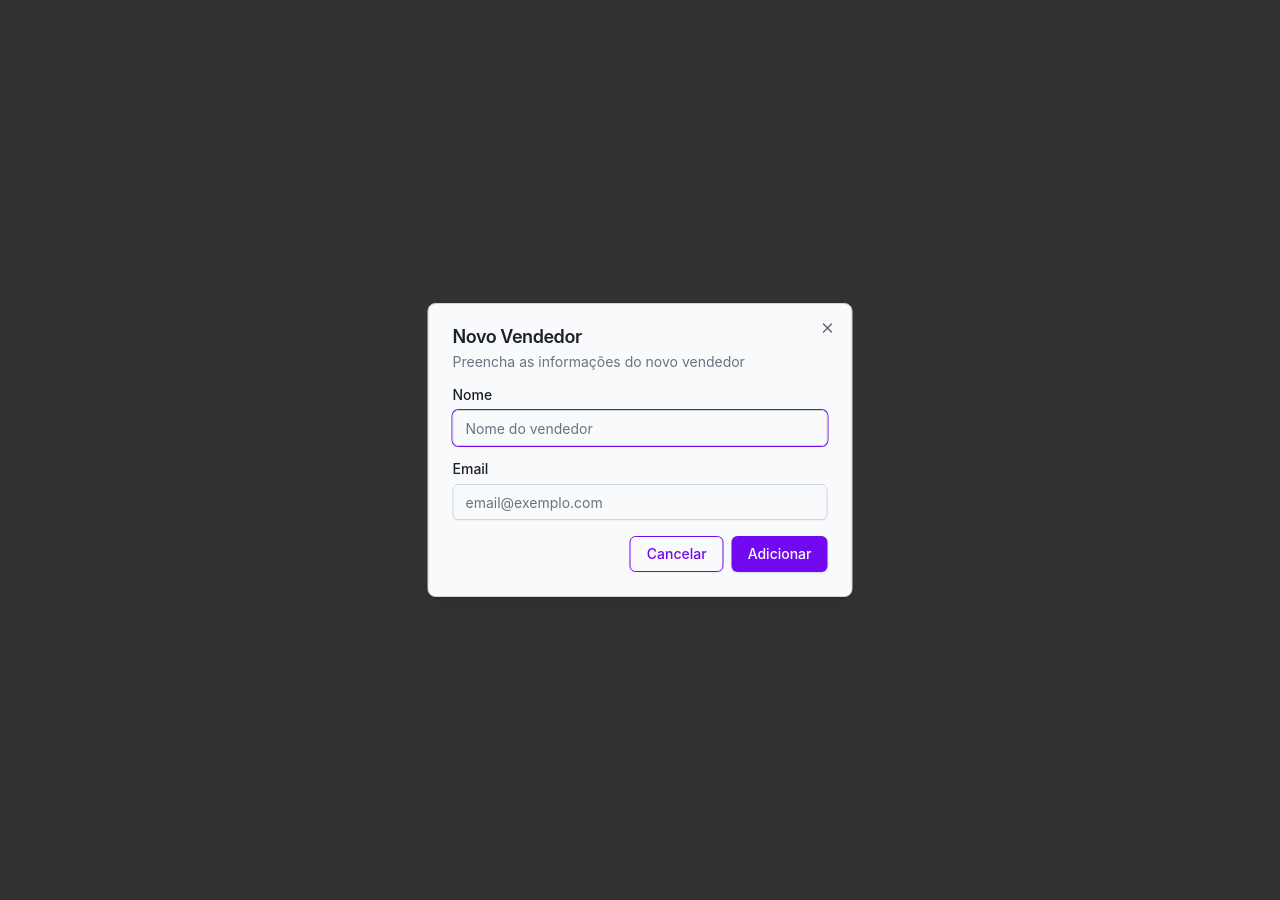
it: FormularioVendedor › validation › deve exibir erro quando email está vazio
Preencher apenas nome
Step 1. Type "Teste" into the field labelled "Nome" → (640, 428), box [452, 410, 828, 446]
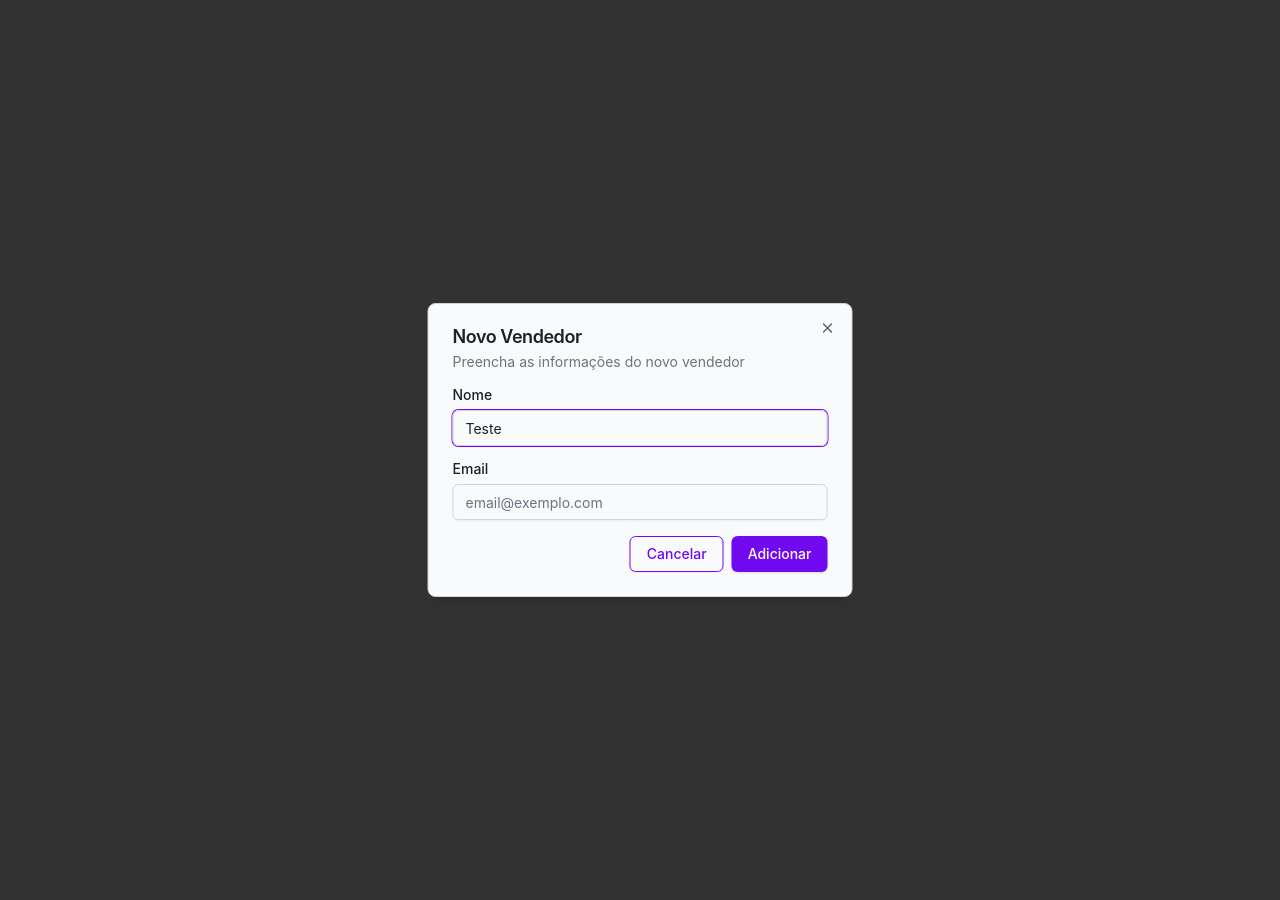
Step 2. Click the button "Adicionar" → click(780, 554), box [732, 536, 828, 572]
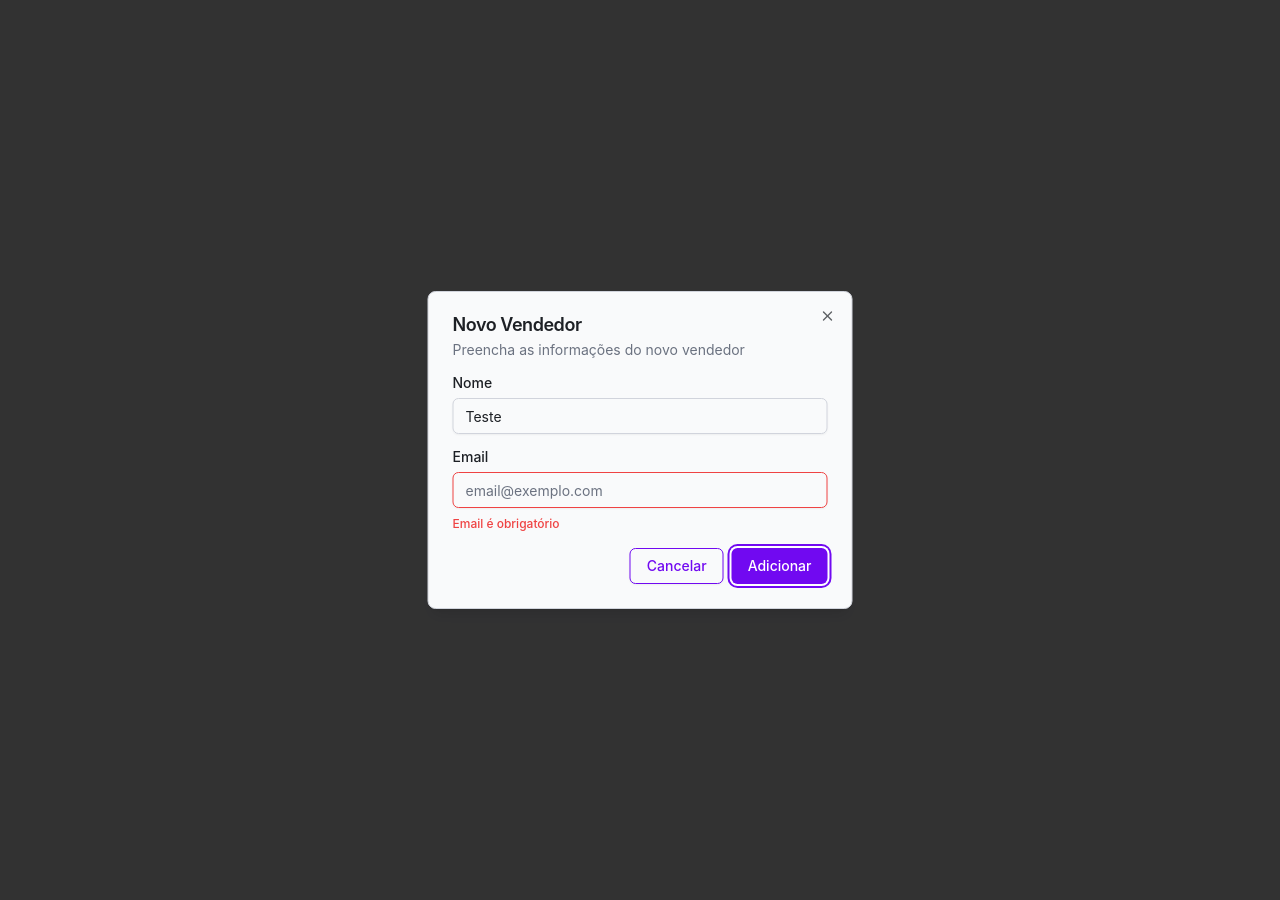
Result: the text "Email é obrigatório" is shown at [452, 516, 560, 531]
